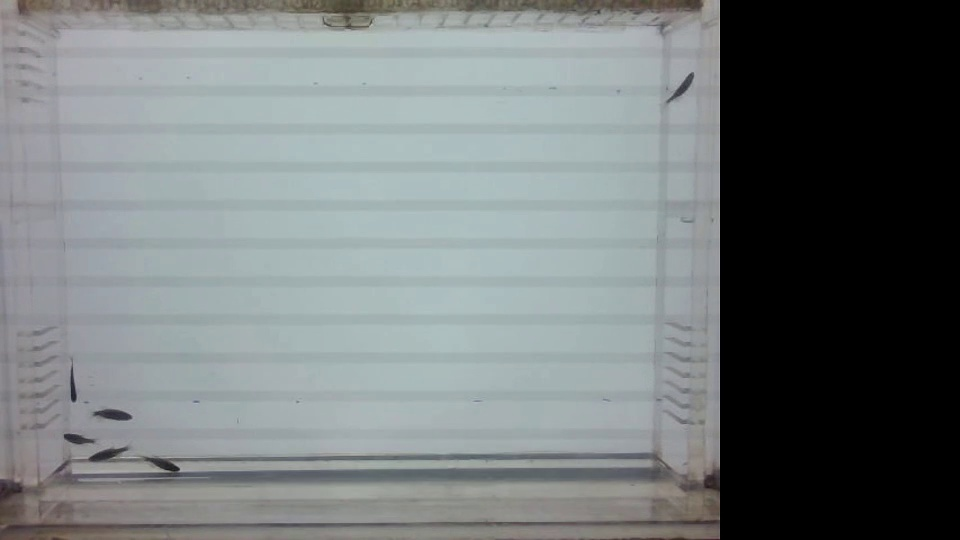fish: (660, 72, 696, 108), (84, 401, 140, 424), (84, 444, 132, 468), (138, 452, 189, 472), (60, 356, 80, 404), (56, 433, 98, 444)
